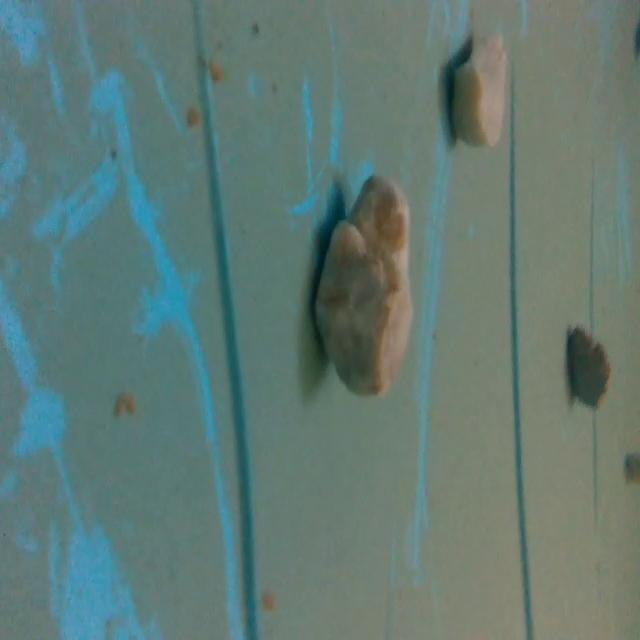rock: (309, 167, 422, 406), (451, 19, 512, 148), (557, 328, 614, 412)
